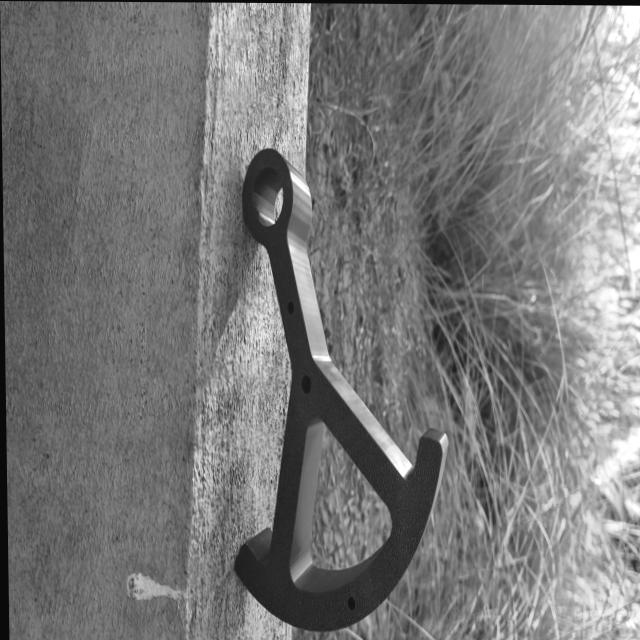haptic: (227, 143, 453, 634)
